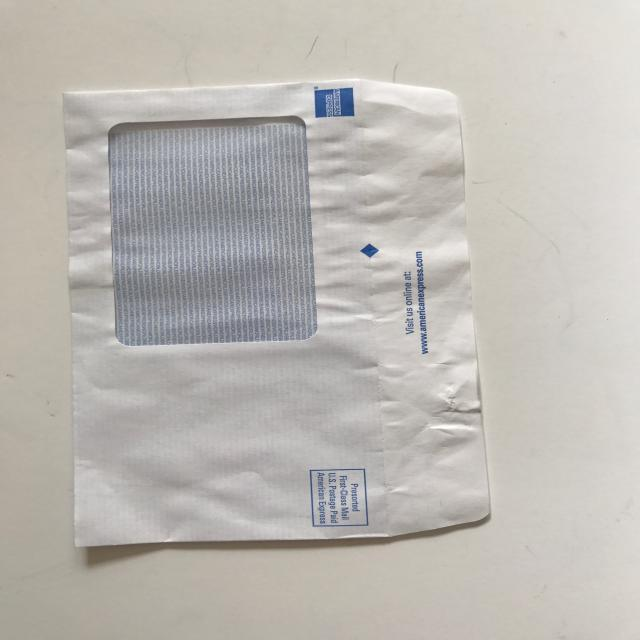paper: (61, 89, 496, 556)
